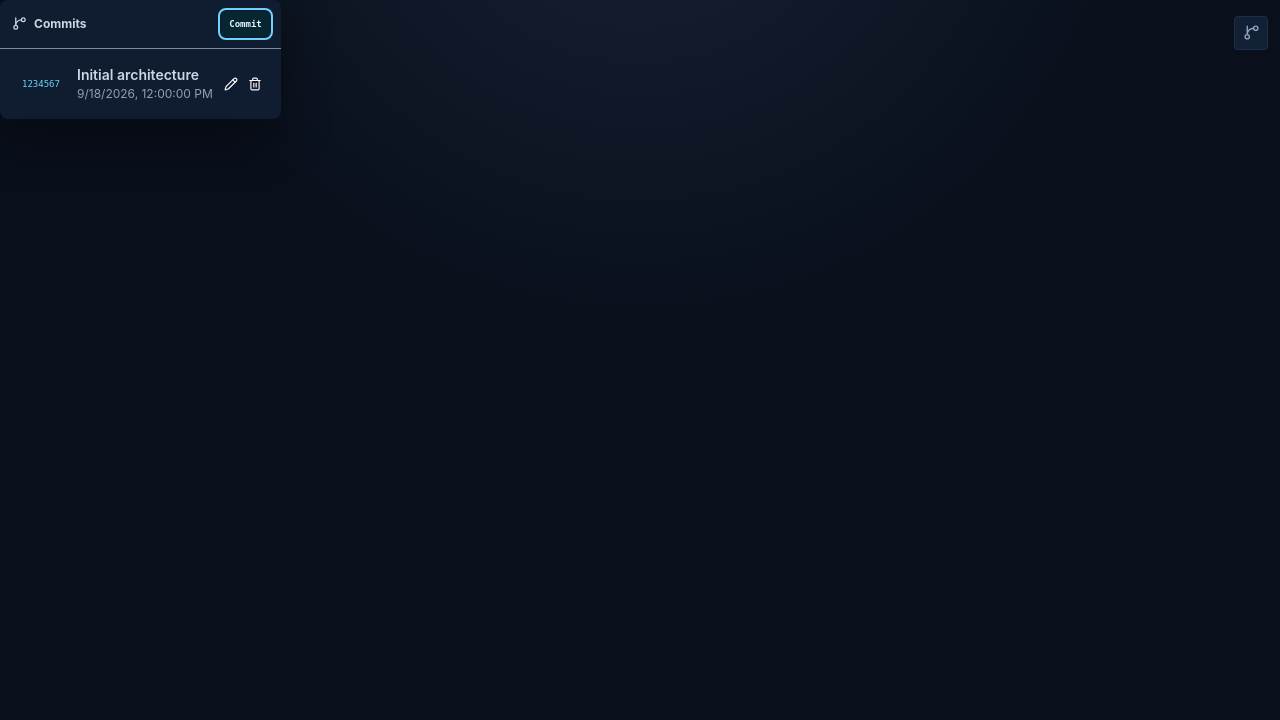
ArchitectureCommitsMenu › shows short commit hashes and renames a commit inline
Expected: the button "Commit" is shown, [222, 12, 269, 36]
Click the button named "Rename Initial architecture" at (231, 84), box [220, 73, 242, 95]
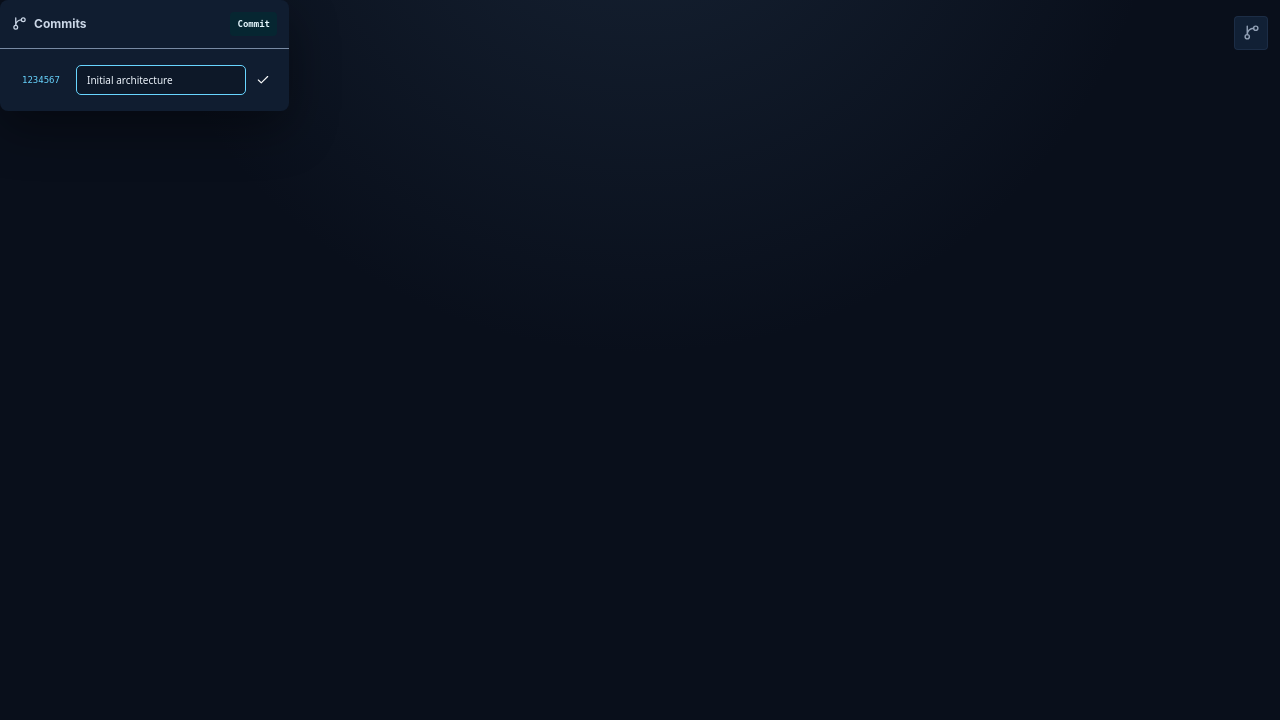
Replace the text in the field named "Rename Initial architecture" with "Load balancer path" at (161, 80), box [77, 66, 245, 94]
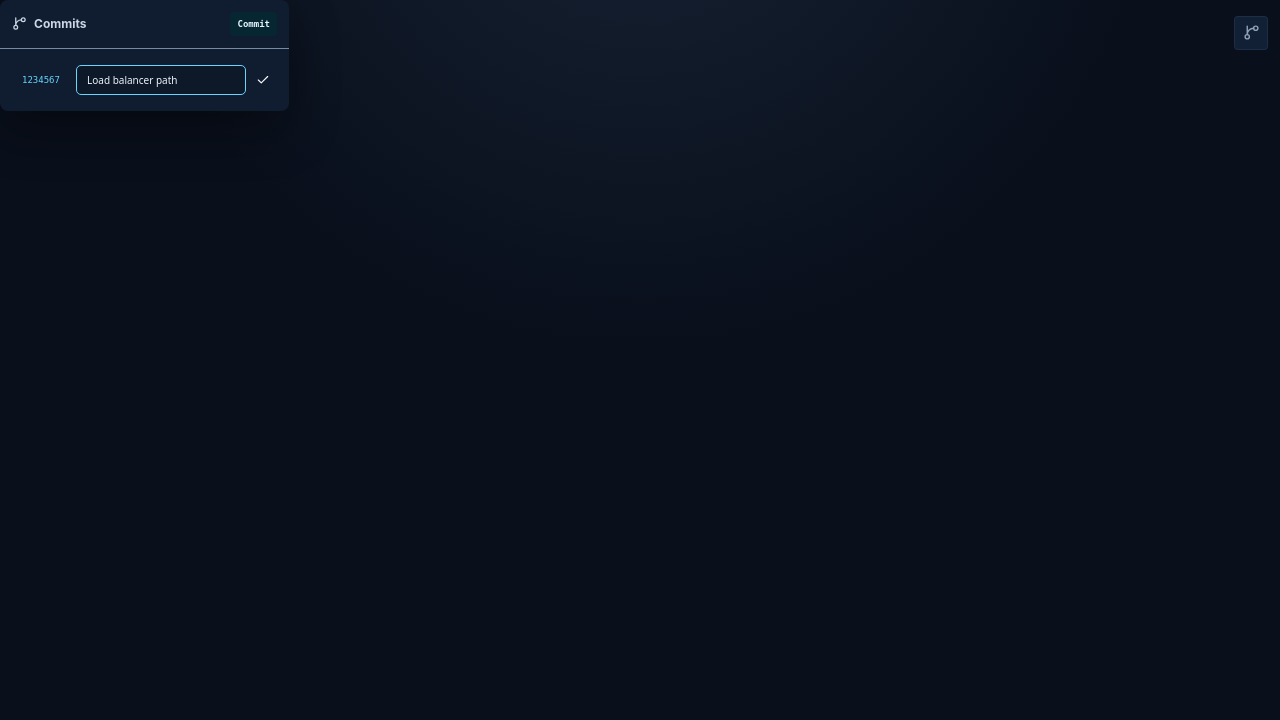
Click the button named "Finish renaming Initial architecture" at (263, 80), box [252, 69, 274, 91]
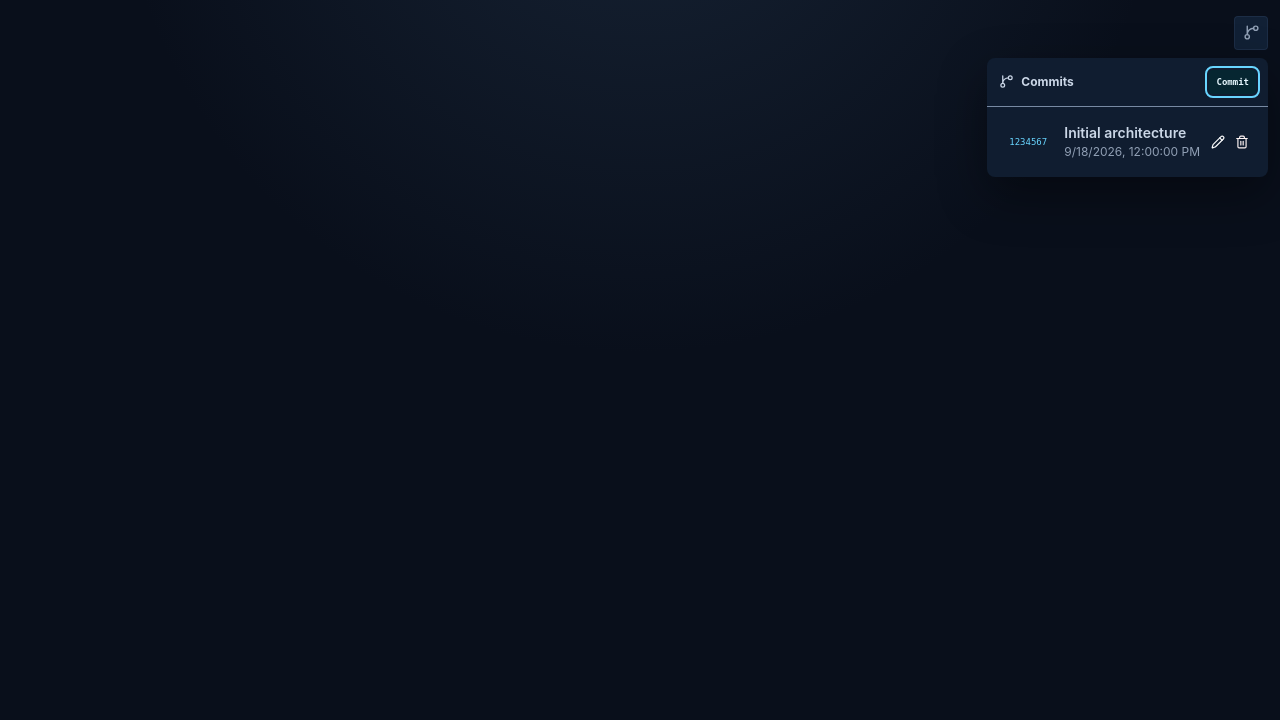
Result: the button named "Rename Initial architecture" is shown at [1207, 131, 1229, 153]
